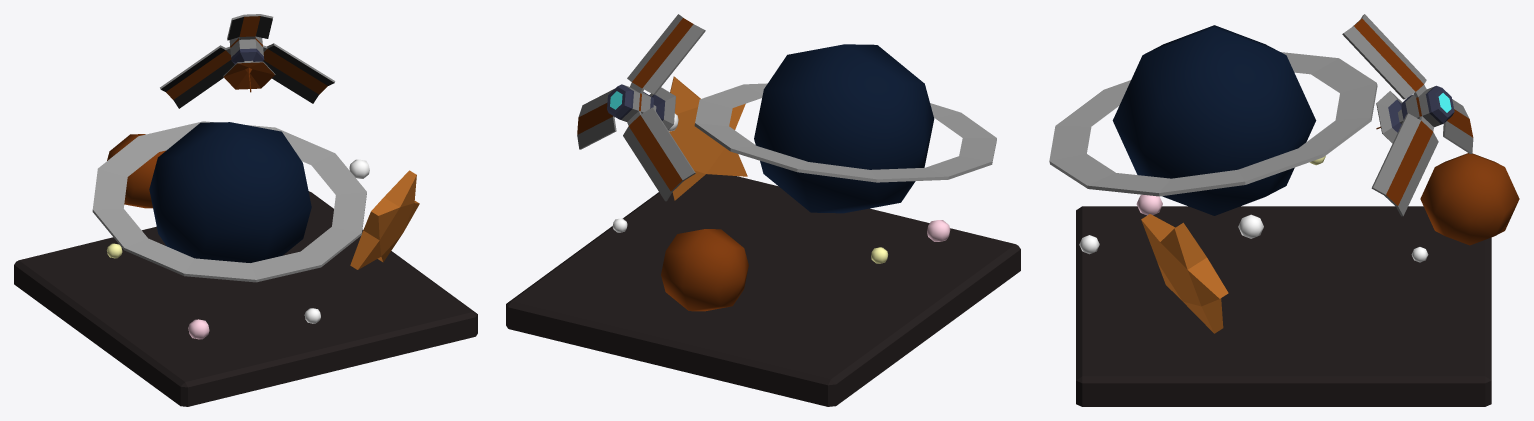
File: W_O_Playground_SpaceSymbolic_002_L1.fbx
3 renders of one model, left to right at view 1: azimuth 30°, elevation 25°; view 2: azimuth 150°, elevation 25°; view 3: azimuth 270°, elevation 25°, orthographic. The views are drawn at different scales.
Visible parts, largest first — view 1: W_O_Playground_SpaceSymbolic_002_L1; view 2: W_O_Playground_SpaceSymbolic_002_L1; view 3: W_O_Playground_SpaceSymbolic_002_L1.
Part boxes in pixels (bbox=[...]): W_O_Playground_SpaceSymbolic_002_L1: bbox=[14, 14, 477, 406]; W_O_Playground_SpaceSymbolic_002_L1: bbox=[506, 14, 1020, 406]; W_O_Playground_SpaceSymbolic_002_L1: bbox=[1049, 14, 1519, 406].
Bounding box in the file's own units: 2.1 × 1.69 × 2.26.
